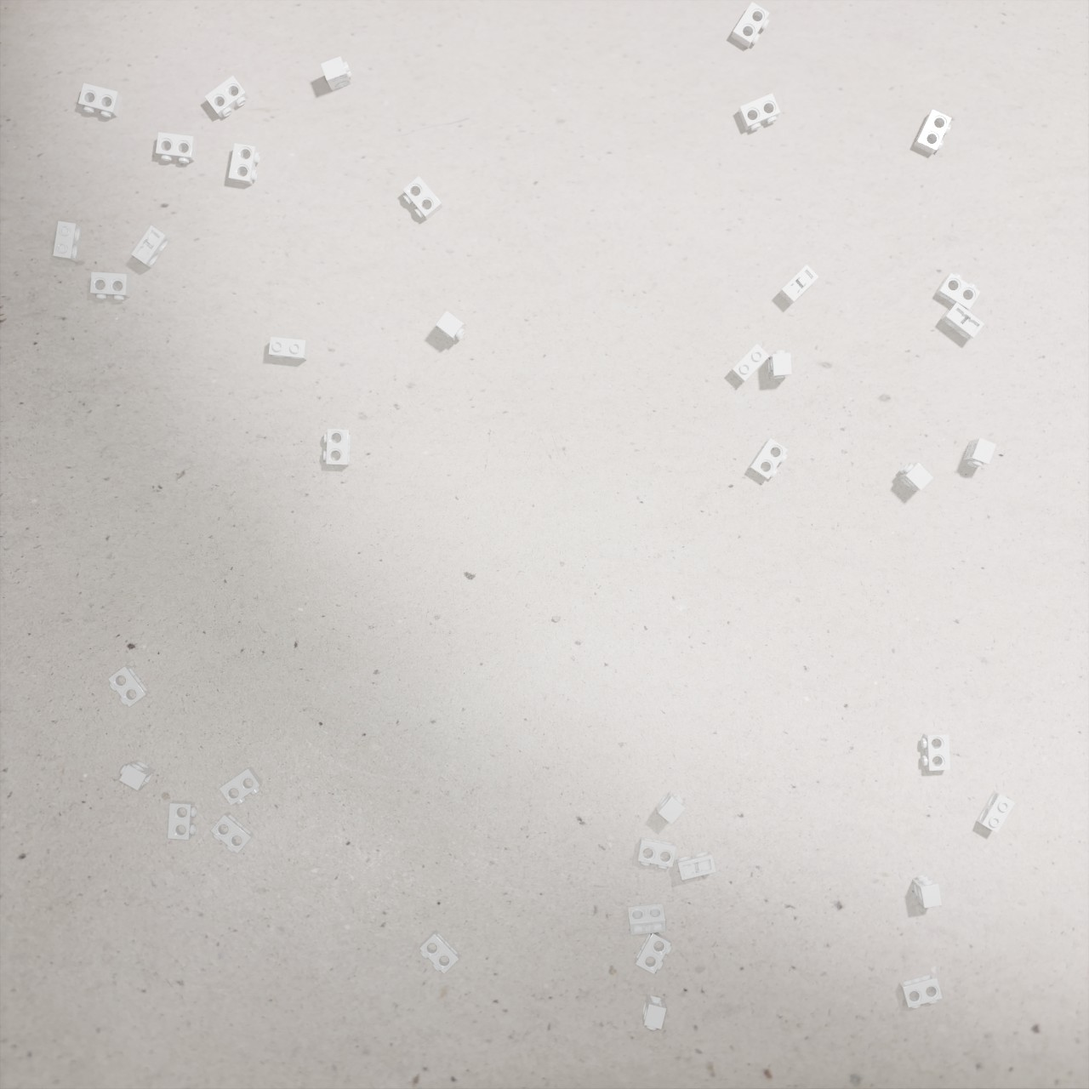lego: (205, 75, 249, 118), (210, 812, 254, 854), (419, 929, 460, 974), (935, 273, 981, 312), (913, 109, 952, 155), (731, 2, 770, 48), (108, 665, 150, 707), (219, 766, 263, 806), (403, 176, 443, 220), (131, 225, 171, 268), (941, 302, 985, 341), (778, 264, 819, 305), (976, 790, 1015, 833), (635, 929, 672, 974), (749, 438, 788, 480), (738, 93, 781, 131), (899, 973, 943, 1009), (78, 83, 123, 118), (730, 344, 770, 383), (228, 143, 260, 185), (156, 132, 197, 164), (637, 837, 676, 869), (167, 800, 197, 840), (53, 221, 82, 262), (676, 851, 717, 880), (628, 904, 666, 935), (921, 732, 951, 771), (320, 56, 353, 91), (90, 272, 131, 300), (119, 760, 155, 791), (898, 463, 934, 492), (323, 429, 351, 466), (963, 438, 997, 468), (656, 791, 686, 825), (912, 875, 942, 908), (436, 310, 466, 342), (269, 337, 309, 360), (642, 994, 666, 1030), (767, 350, 792, 379)
